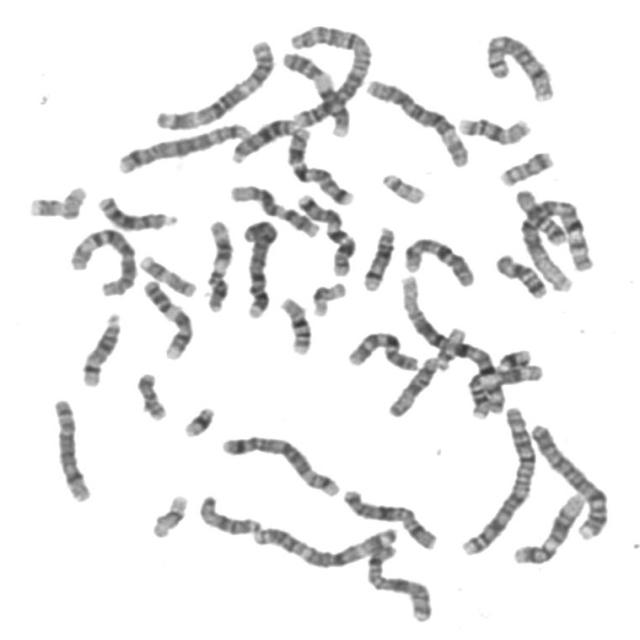A1: (394, 269, 508, 421), (515, 192, 596, 294)
A2: (455, 400, 538, 557), (282, 17, 374, 132)
A3: (148, 33, 278, 132), (247, 518, 400, 570)
B4: (526, 418, 612, 542), (238, 214, 280, 320)
B5: (216, 429, 342, 499), (111, 116, 252, 175)
C10: (399, 231, 477, 288), (341, 326, 421, 374)
C11: (464, 358, 544, 419), (200, 214, 234, 314)
C12: (508, 488, 588, 566), (225, 178, 322, 239)
C6: (361, 72, 472, 169), (63, 222, 139, 298)
C7: (282, 122, 358, 206), (291, 187, 357, 278)
C8: (480, 28, 557, 103), (46, 391, 94, 505)
C9: (276, 45, 352, 138), (137, 273, 196, 361)
D13: (92, 189, 180, 232), (226, 113, 298, 164)
D14: (75, 306, 124, 388), (356, 220, 398, 293)
D15: (383, 350, 441, 419), (193, 489, 264, 538)
E16: (454, 110, 533, 147), (275, 290, 314, 356)
E17: (134, 250, 199, 298), (22, 179, 89, 221)
E18: (512, 185, 568, 249), (490, 248, 550, 299)
F19: (146, 488, 190, 540), (306, 276, 348, 318)
F20: (494, 146, 557, 188), (130, 366, 170, 422)
G21: (177, 400, 218, 439), (492, 342, 534, 373)
G22: (376, 167, 428, 206), (432, 322, 469, 372)
X: (337, 482, 441, 553), (361, 538, 435, 624)
